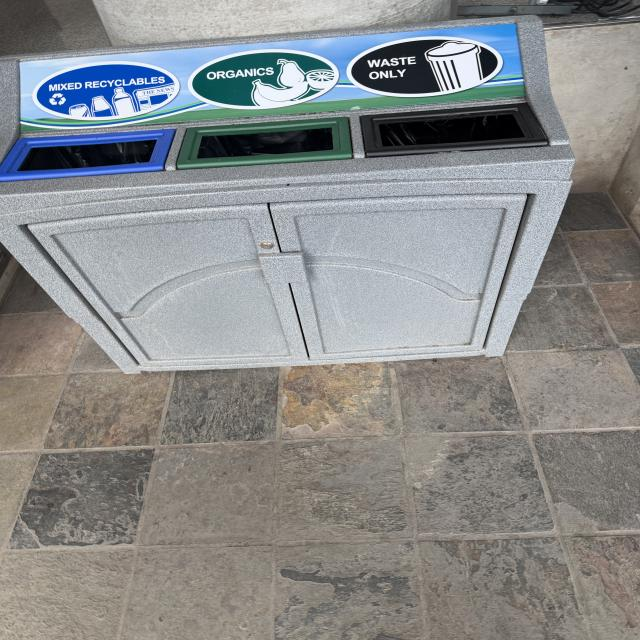Dustbin: (0, 15, 578, 378)
